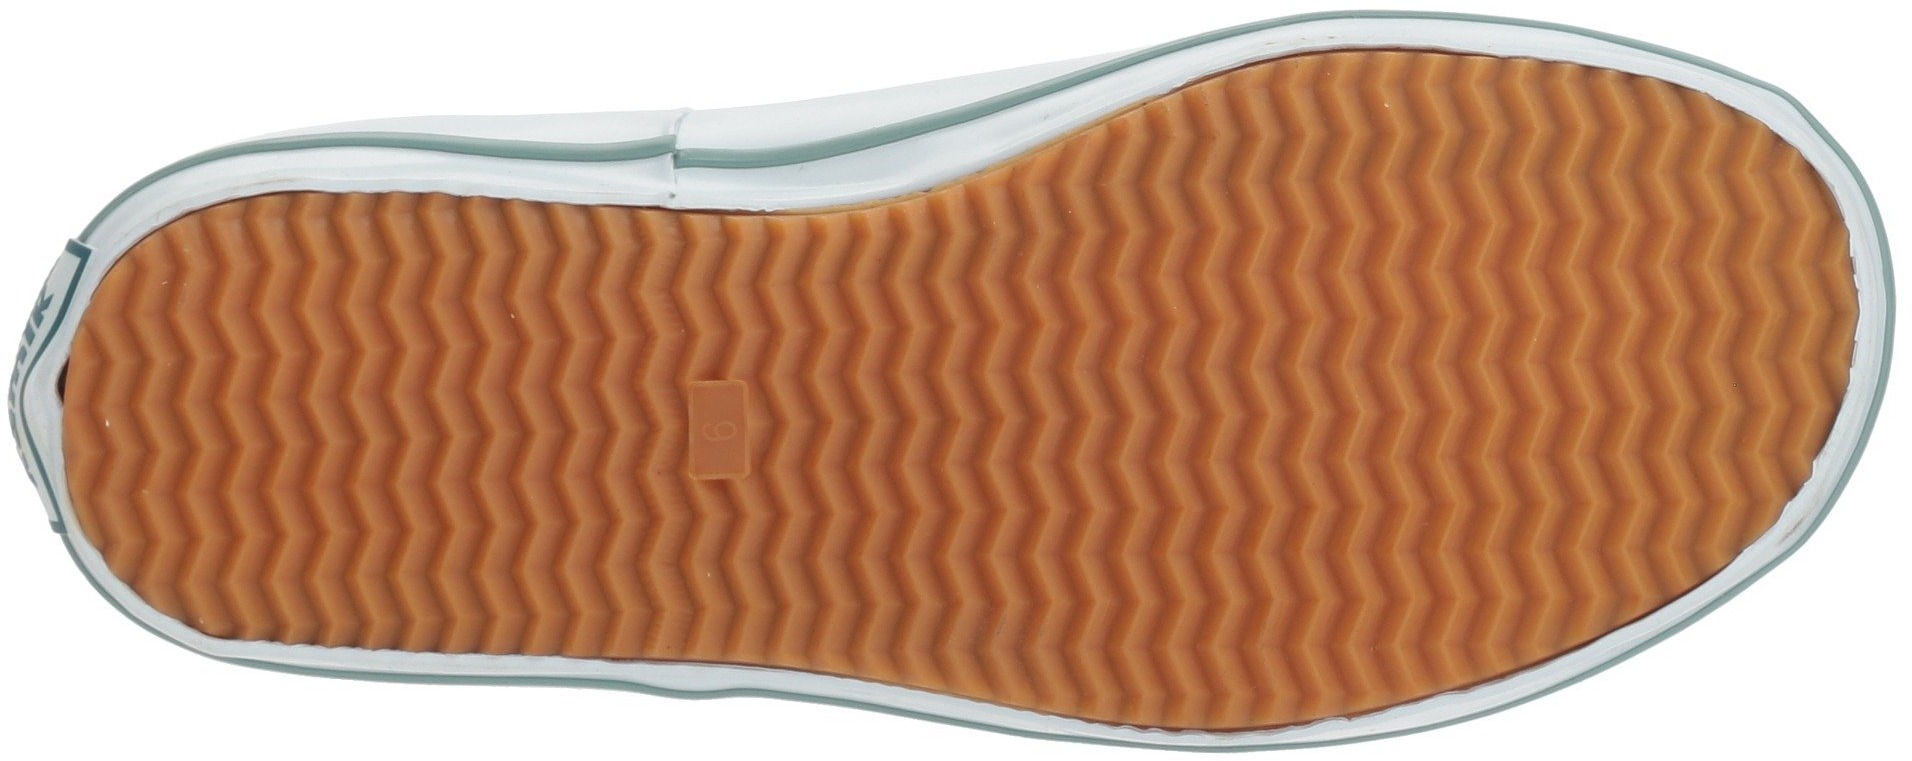chevron: (1125, 135, 1634, 583), (763, 126, 1127, 706), (137, 254, 569, 581), (1641, 206, 1839, 399), (587, 509, 734, 650), (590, 221, 727, 365), (1139, 589, 1274, 723)
quad: (677, 365, 765, 502)
text: (695, 413, 747, 451)
